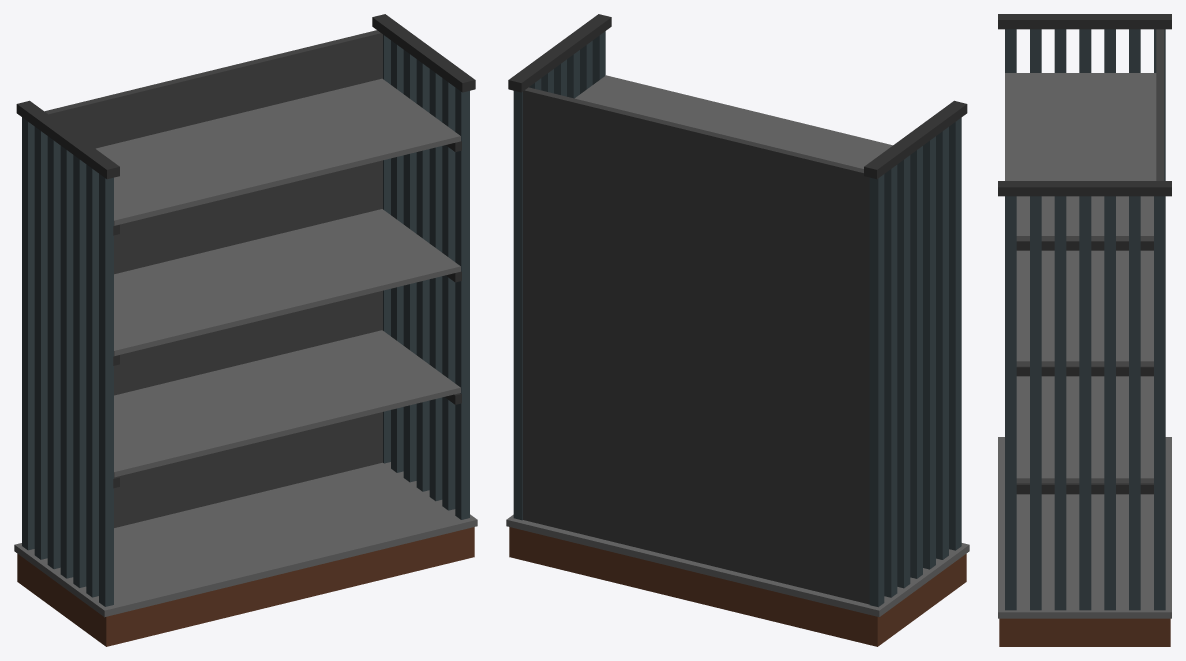
File: End Cap #2.fbx
3 views of the same model, side by side, from view 1: azimuth 30°, elevation 25°; view 2: azimuth 150°, elevation 25°; view 3: azimuth 270°, elevation 25° (orthographic). The views are drawn at different scales.
Parts seen in each view (by area): view 1: End Cap #2; view 2: End Cap #2; view 3: End Cap #2.
Part boxes in pixels (x1=…): End Cap #2: x1=14, y1=14, x2=477, y2=646; End Cap #2: x1=506, y1=14, x2=969, y2=646; End Cap #2: x1=998, y1=14, x2=1171, y2=646.
Bounding box in the file's own units: 108 × 132 × 45.17.
Materials: 1 (1 with a texture image).
